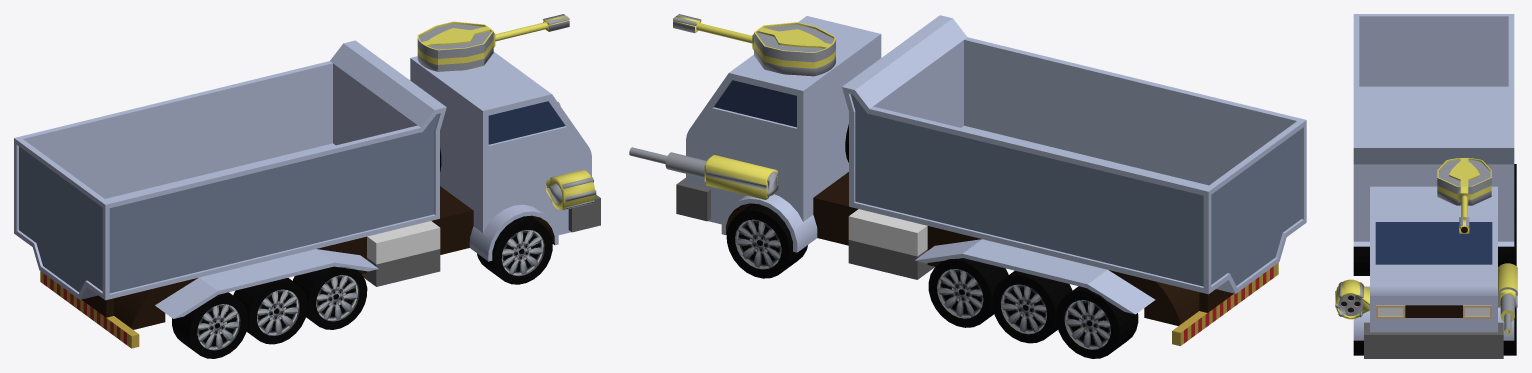
File: Carry.fbx
The picture shows the model from 3 angles, left to right: view 1: azimuth 30°, elevation 25°; view 2: azimuth 150°, elevation 25°; view 3: azimuth 270°, elevation 25°; orthographic projection. The views are drawn at different scales.
Parts seen in each view (by area): view 1: Group1, skp6CBE1, skpA92D2, skpA92D3, skpA92D4, skpA92D1, skpEA39_1; view 2: Group1, skp6CBE1, skpA92D8, skpA92D7, skpA92D6, skpA92D5, skp80F0_1; view 3: Group1, skp6CBE1, skpEA39_1, skp80F0_1, skpA92D4, skpA92D6, skpA92D5, skpA92D1.
Part boxes in pixels (box(x1,y1,x2,y2)): Group1: box(14, 40, 600, 348); skp6CBE1: box(417, 14, 569, 71); skpA92D2: box(172, 292, 248, 358); skpA92D3: box(233, 278, 307, 344); skpA92D4: box(292, 266, 367, 329); skpA92D1: box(477, 216, 552, 284); skpEA39_1: box(546, 169, 596, 210); Group1: box(676, 15, 1306, 345); skp6CBE1: box(673, 14, 835, 76); skpA92D8: box(1056, 286, 1138, 358); skpA92D7: box(992, 271, 1072, 343); skpA92D6: box(928, 258, 1008, 327); skpA92D5: box(726, 203, 807, 278); skp80F0_1: box(629, 147, 778, 199); Group1: box(1353, 14, 1514, 358); skp6CBE1: box(1437, 158, 1491, 233); skpEA39_1: box(1335, 279, 1369, 319); skp80F0_1: box(1498, 263, 1517, 334); skpA92D4: box(1353, 246, 1369, 275); skpA92D6: box(1498, 215, 1516, 266); skpA92D5: box(1503, 307, 1516, 355); skpA92D1: box(1353, 340, 1363, 355).
Size of the model in its own units: 4.69 by 1.68 by 1.56.
